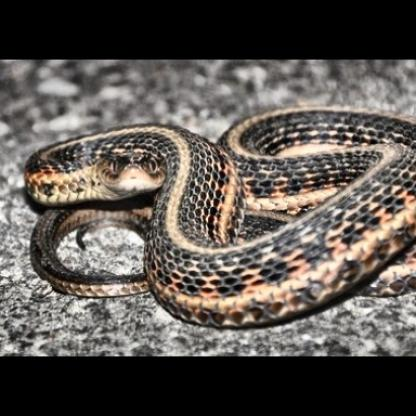Snake: (20, 94, 416, 330)
